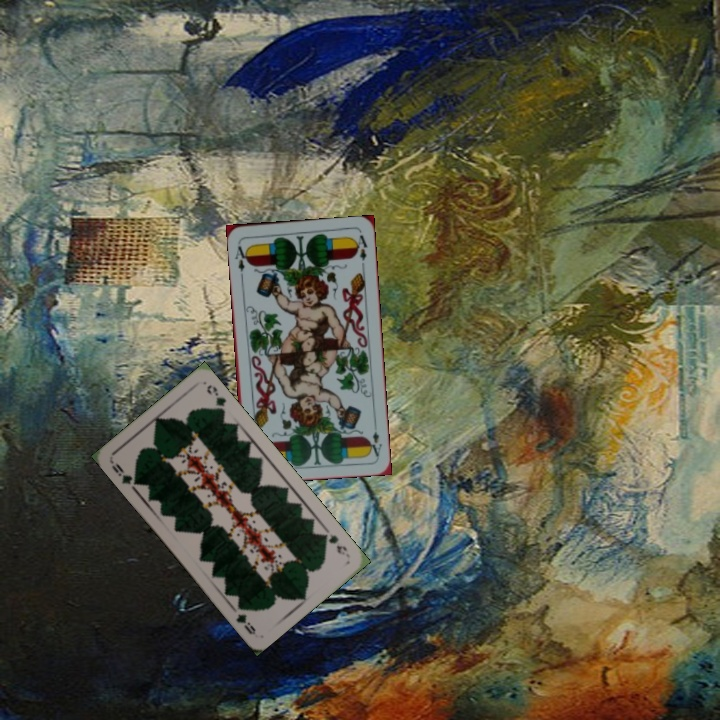EA: (231, 239, 251, 280), (365, 428, 384, 459)
G9: (107, 458, 142, 492), (317, 525, 352, 559)
